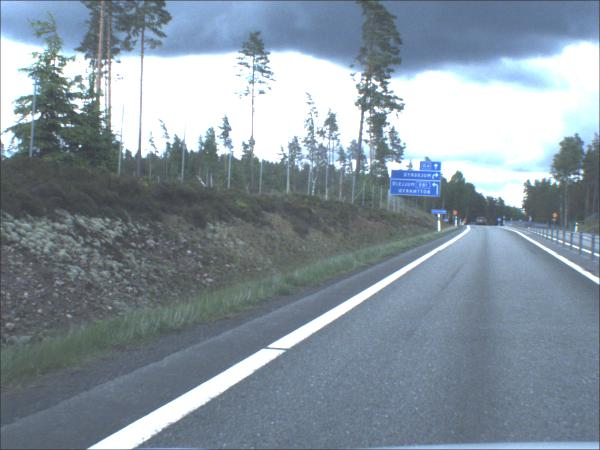70_SIGN: (553, 213, 558, 220), (453, 211, 458, 217)
PASS_RIGHT_SIDE: (497, 219, 502, 223)
